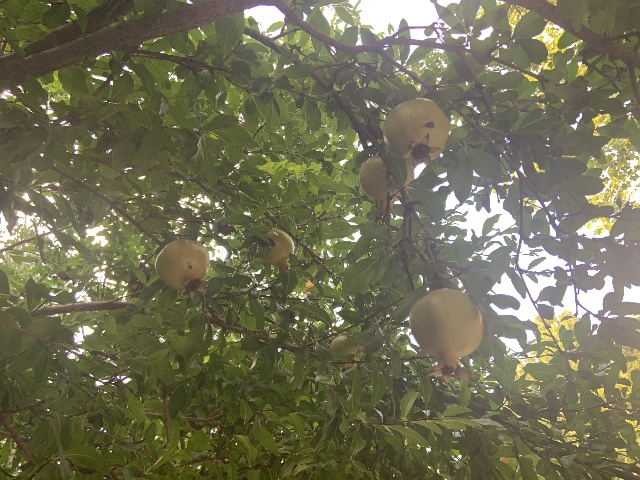mid-growth: (409, 287, 483, 383), (382, 98, 450, 170), (359, 154, 414, 221), (155, 239, 209, 300), (257, 228, 294, 273), (329, 336, 362, 371)
